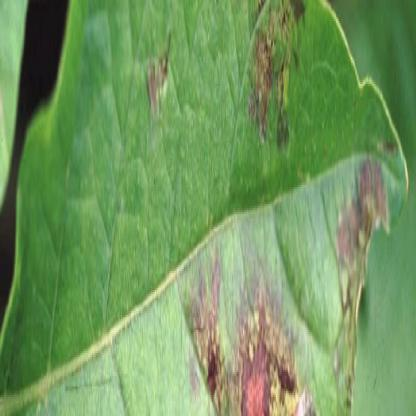potato leaf late blight: (6, 8, 416, 414)
